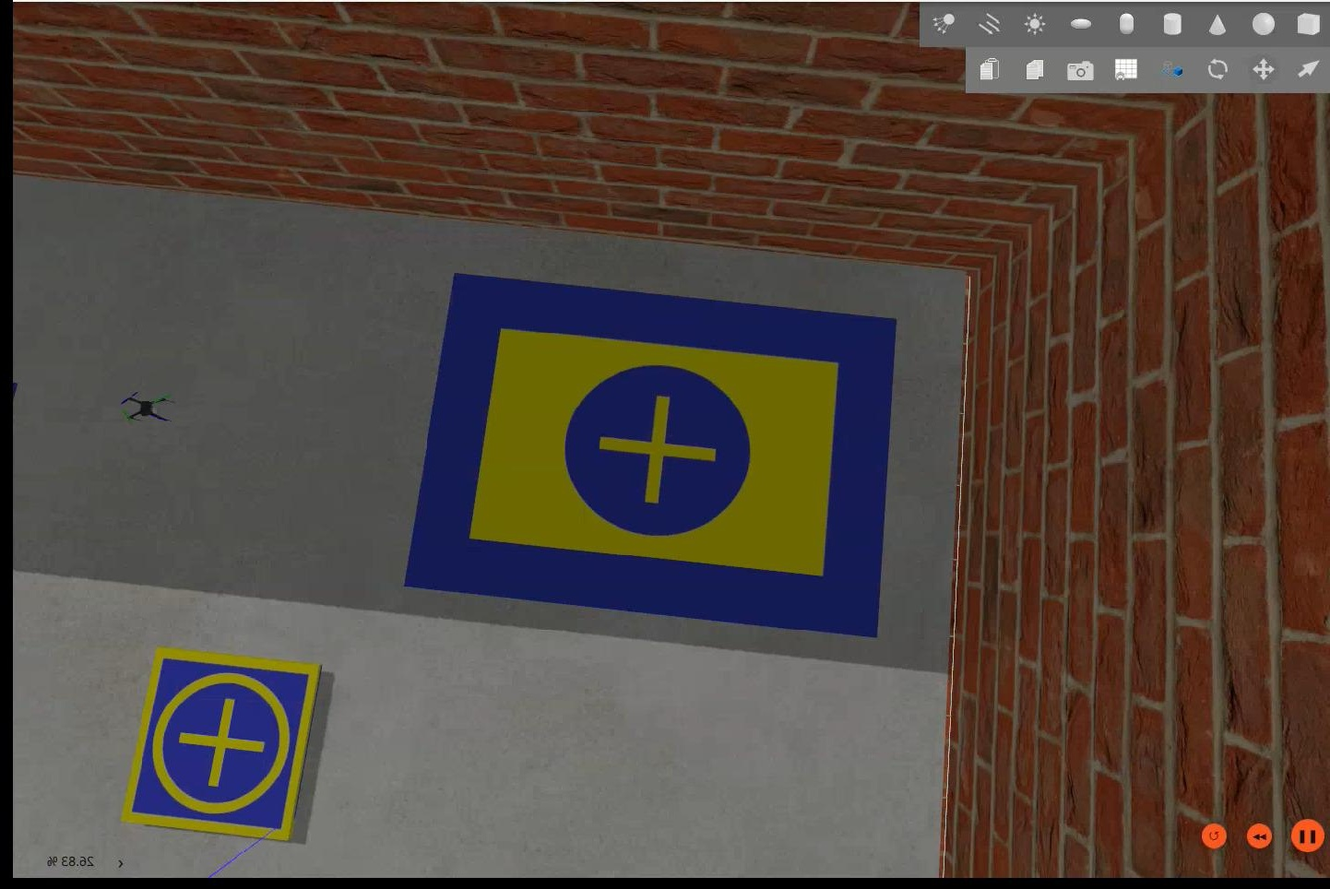large_base: (403, 275, 897, 641)
small_base: (115, 648, 321, 842)
